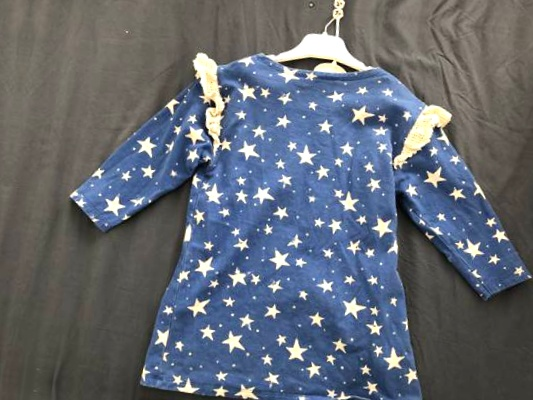Dress: (40, 0, 533, 400), (0, 385, 497, 400), (98, 0, 533, 13)
